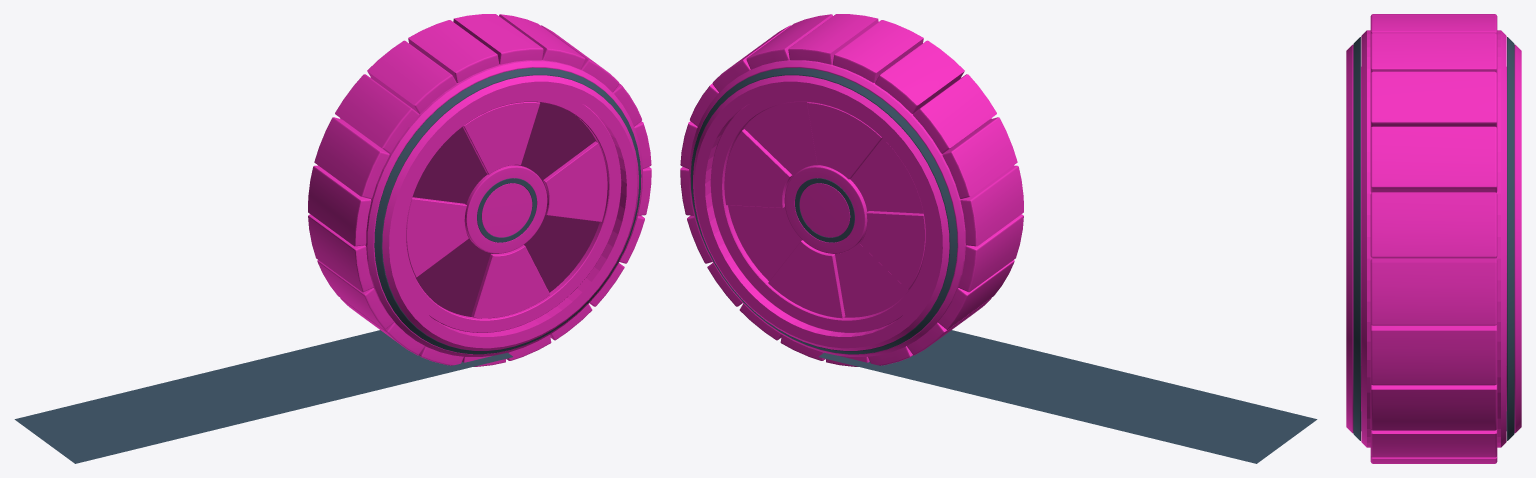
The picture shows the model from 3 angles, left to right: view 1: azimuth 30°, elevation 25°; view 2: azimuth 150°, elevation 25°; view 3: azimuth 270°, elevation 25°; orthographic projection. The views are drawn at different scales.
Visible parts, largest first — view 1: wheel_Pink_body001, Rectangle001, wheel_Pink_led001; view 2: wheel_Pink_body001, Rectangle001, wheel_Pink_led001; view 3: wheel_Pink_body001, wheel_Pink_led001.
Boxes of the visible parts, left/top/right/bottom form: wheel_Pink_body001: left=308, top=14, right=651, bottom=366; Rectangle001: left=14, top=330, right=512, bottom=463; wheel_Pink_led001: left=374, top=67, right=641, bottom=354; wheel_Pink_body001: left=680, top=14, right=1023, bottom=366; Rectangle001: left=819, top=330, right=1317, bottom=463; wheel_Pink_led001: left=690, top=67, right=957, bottom=354; wheel_Pink_body001: left=1346, top=14, right=1521, bottom=463; wheel_Pink_led001: left=1353, top=37, right=1514, bottom=440.
Size of the model in its own units: 951 by 484 by 189.
